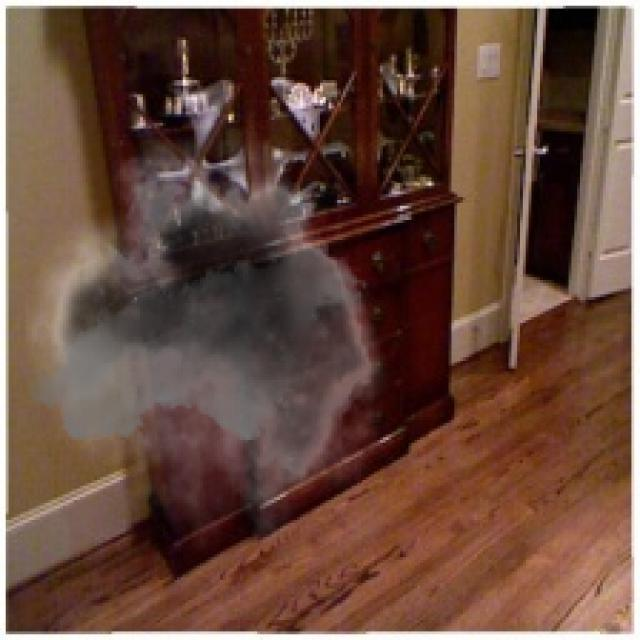Smoke: (26, 134, 400, 552)
